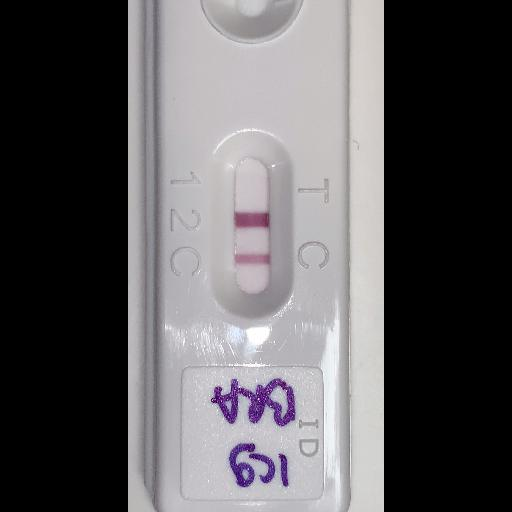Pos: (153, 0, 356, 511)
